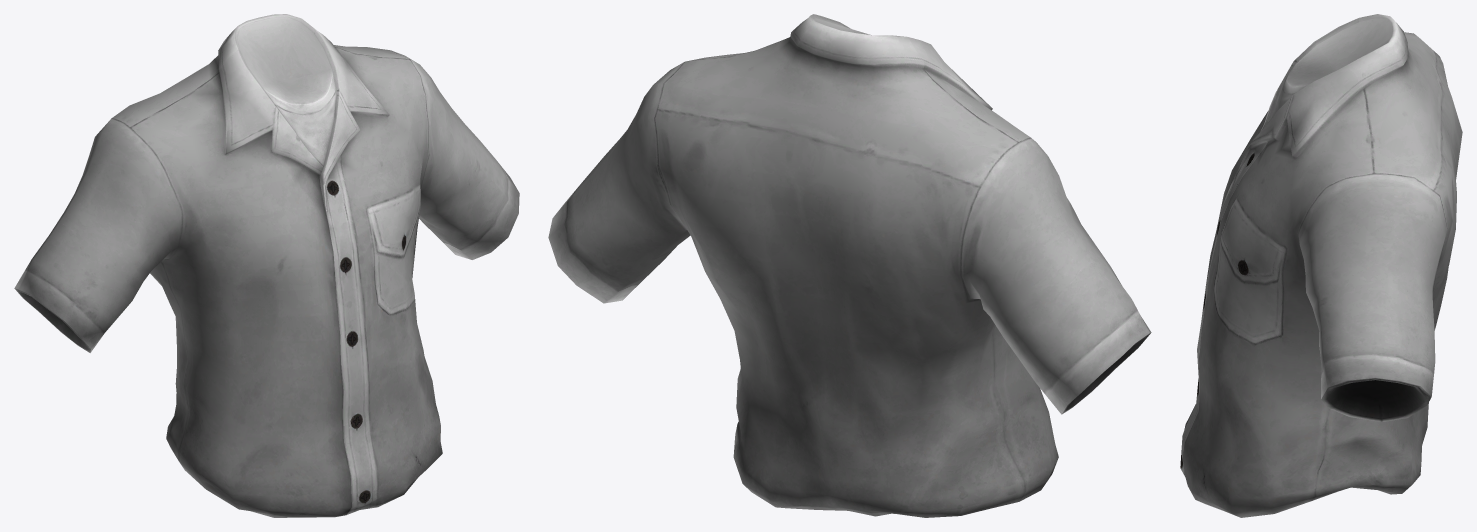
Rendered from SurvivorMale_Chest_Shirt_Uniform_LOD0.glb.
3 renders of one model, left to right at view 1: azimuth 30°, elevation 25°; view 2: azimuth 150°, elevation 25°; view 3: azimuth 270°, elevation 25°, orthographic. The views are drawn at different scales.
Visible parts, largest first — view 1: Hoodie; view 2: Hoodie; view 3: Hoodie.
Part boxes in pixels (x1,y1,x2,y2): Hoodie: (14, 14, 519, 517); Hoodie: (548, 14, 1151, 517); Hoodie: (1180, 14, 1462, 517).
Bounding box in the file's own units: 0.7444 × 0.6303 × 0.3566.
1 material, 1 textured.
